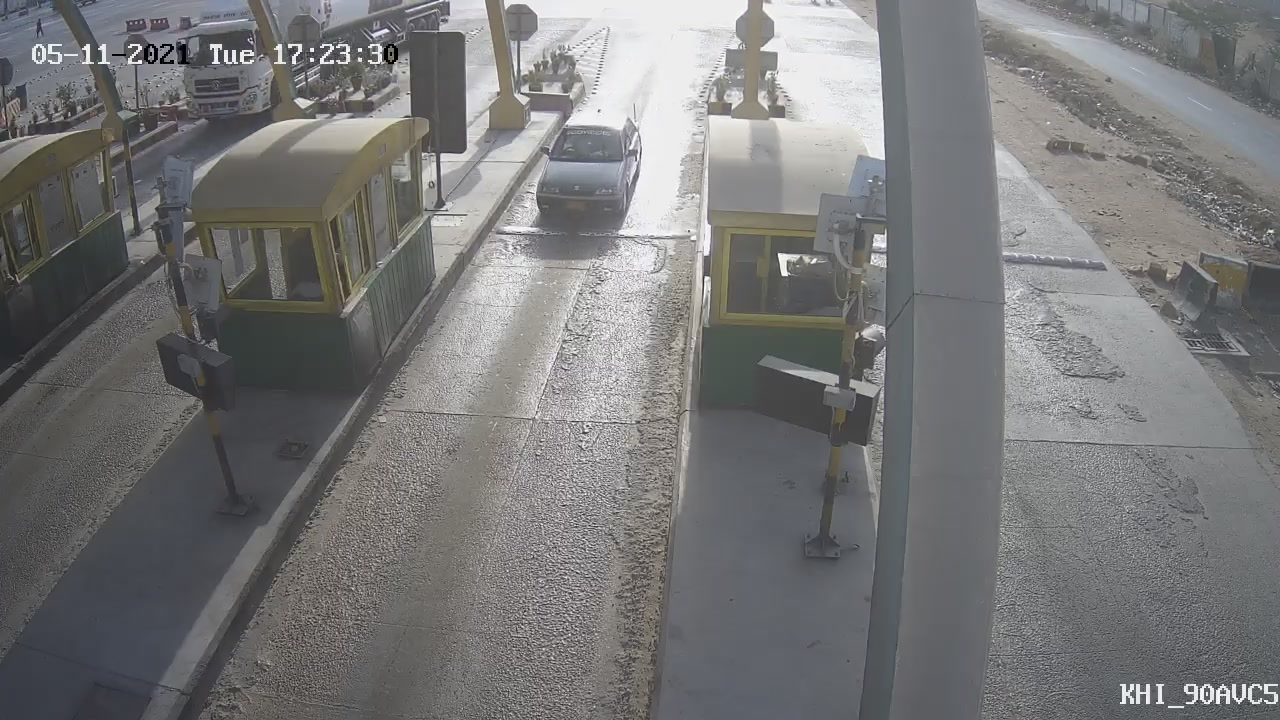F1: (513, 87, 659, 251)
